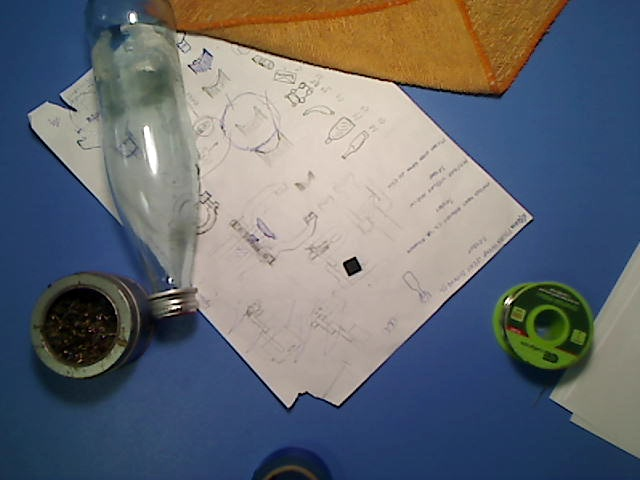bottle: (84, 1, 204, 323)
